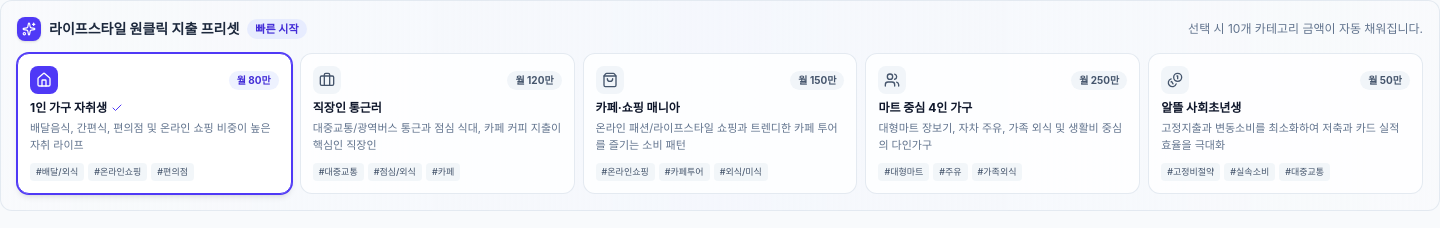
Scenario: SpendingPresetSelector › 이미 해당 프리셋과 동일한 값이 설정되어 있으면 안내 토스트를 띄우고 중복 적용하지 않는다
Click the button with aria-label "1인 가구 자취생 프리셋 선택" at [154, 123], box [17,53,292,194]
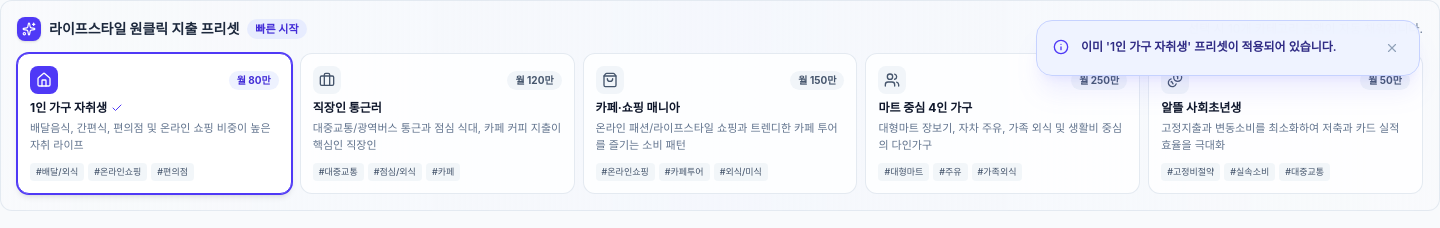
Now the text "이미 '1인 가구 자취생' 프리셋이 적용되어 있습니다." is shown, box [1081,37,1337,56]
